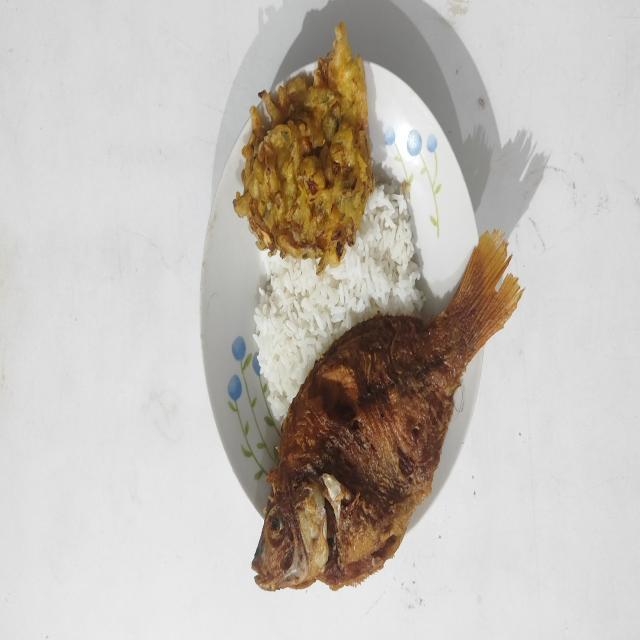ikan_mujair: (252, 230, 523, 590)
nasi_putih: (253, 184, 425, 430)
